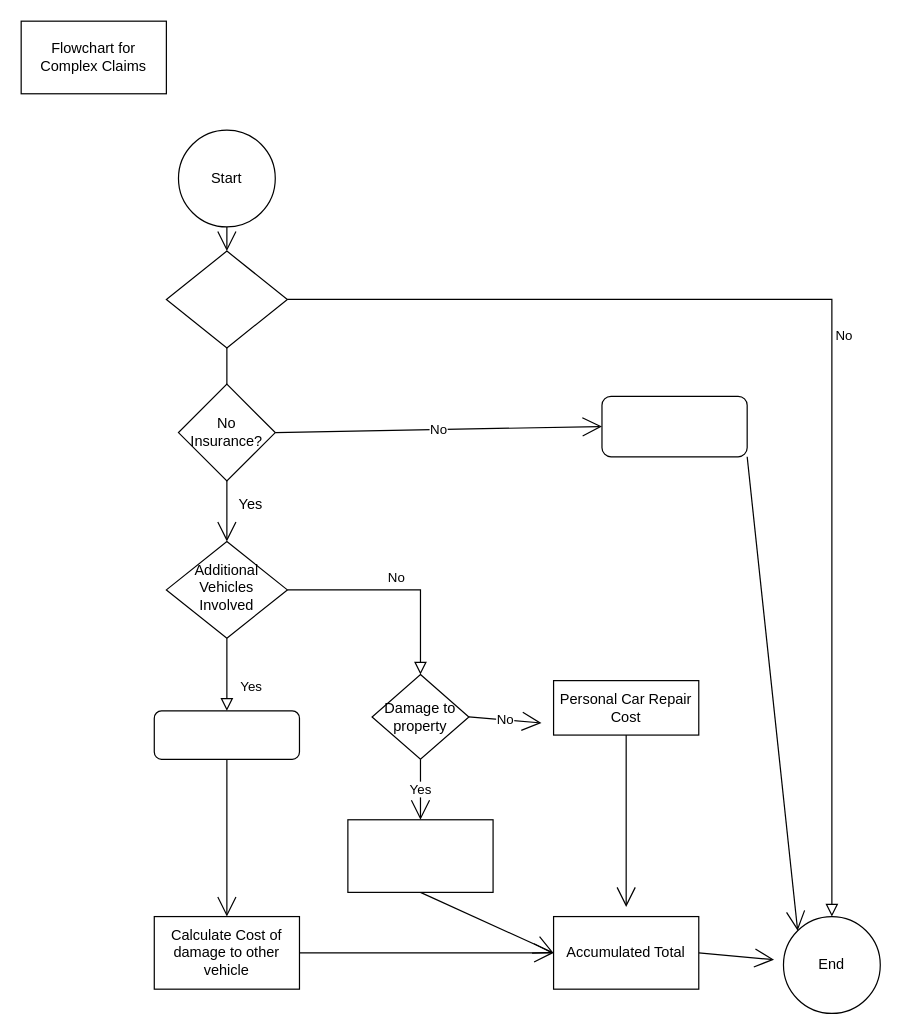
Some shapes in this 901 by 1035 pixel diagram are drawn without their labels. Here are the shapes that lost their labels. From the top down, the box of each, then its label:
(165, 250, 287, 348): Is this a complex Claim
(601, 395, 747, 457): Damage Covered by Insurance
(153, 710, 299, 759): Assess damage of other vehicle
(347, 819, 493, 892): Calculate Cost of damaged property
